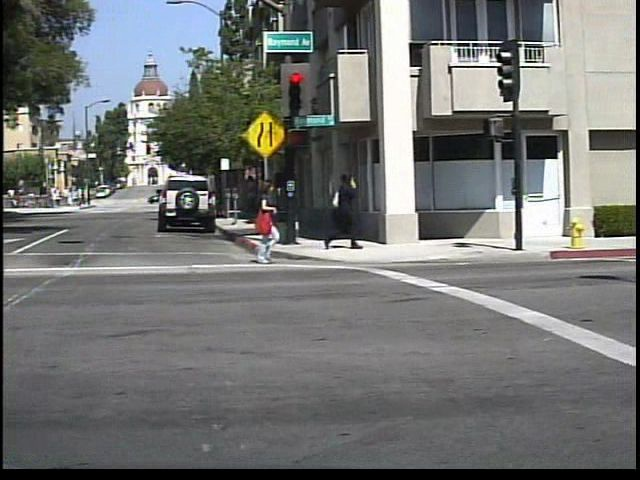person: (246, 177, 297, 266), (329, 167, 369, 253)
